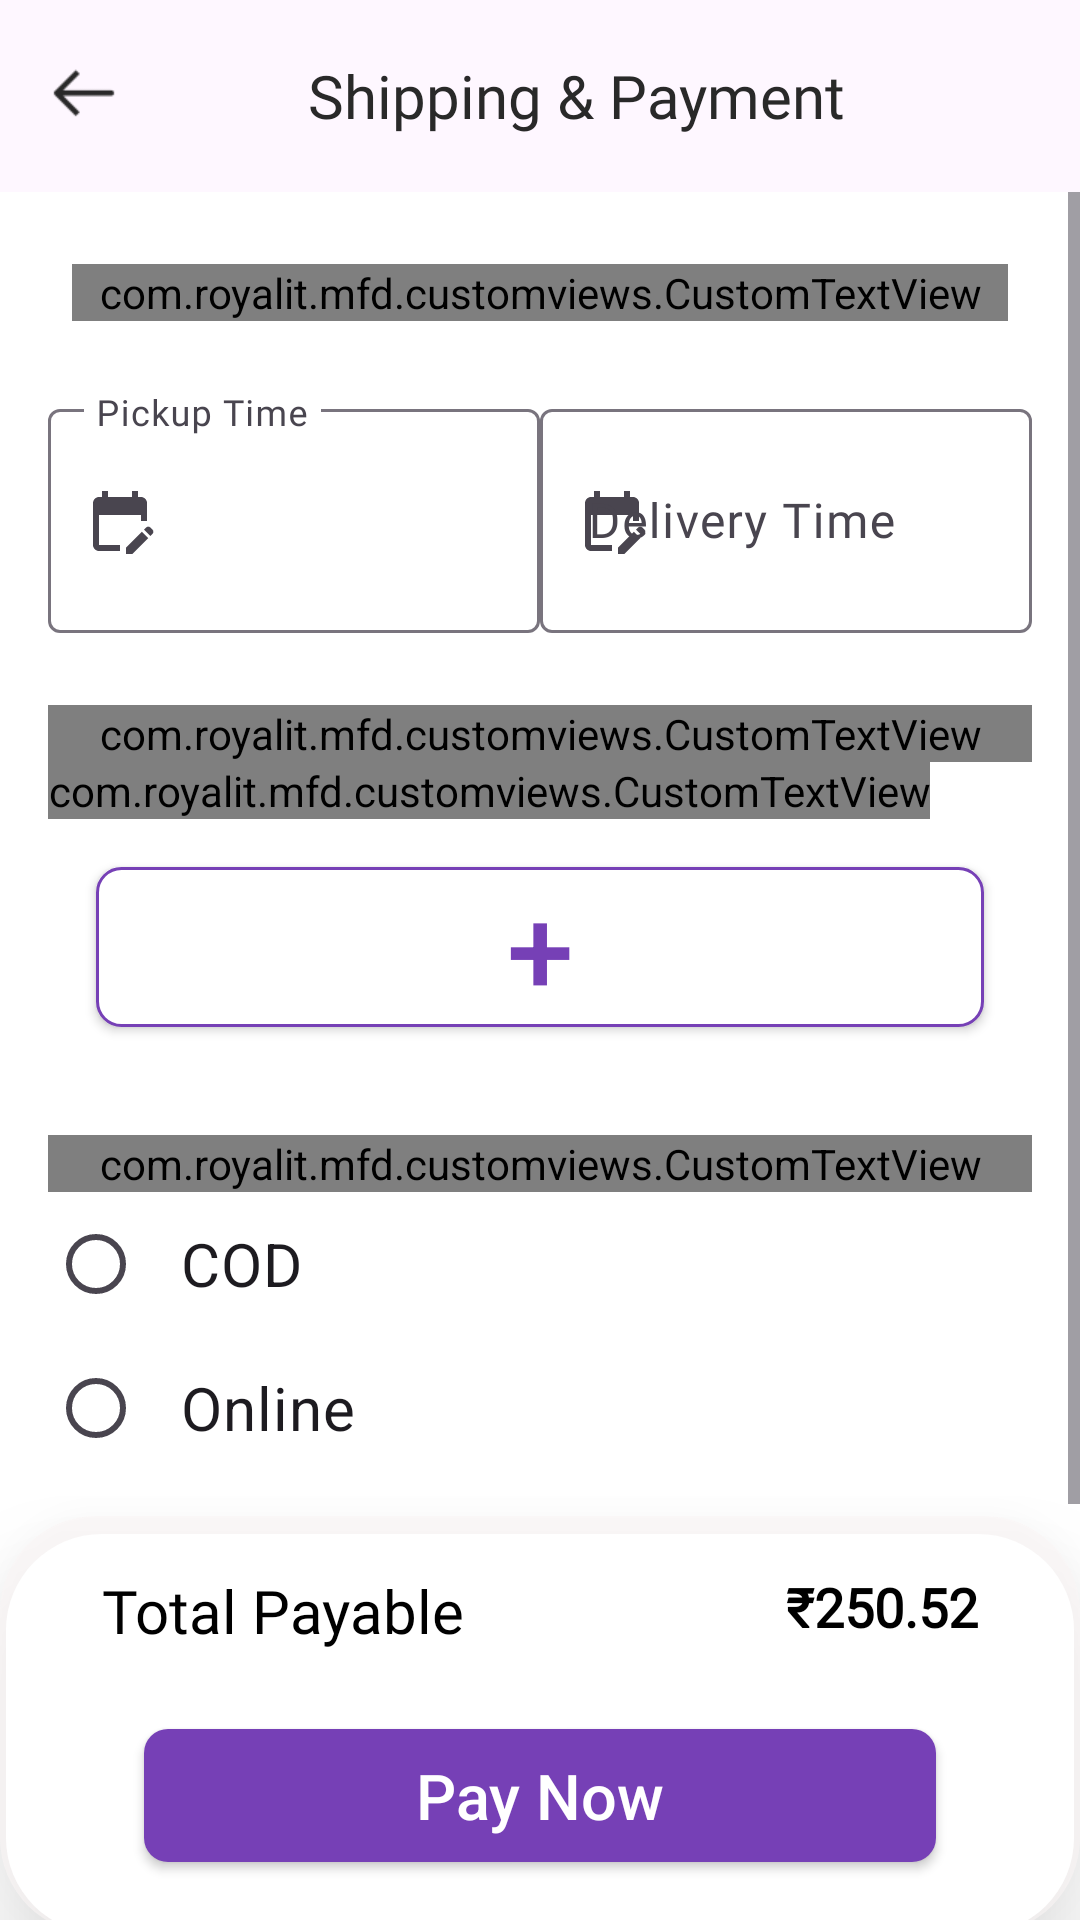

Icon bounding boxes for this 1080×1920 phone screenshot, format [x1, y1, x2, y2]:
arrow left: [53, 69, 115, 116]
